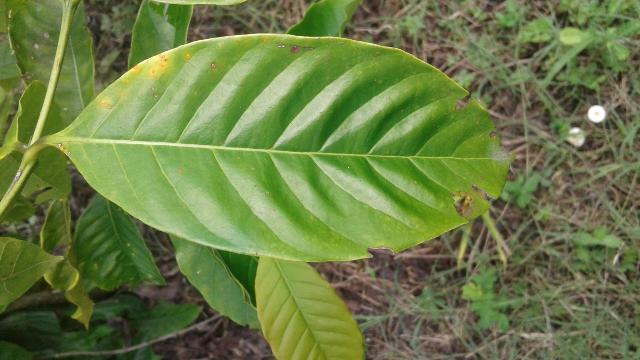rust_level_1: (52, 29, 527, 267)
